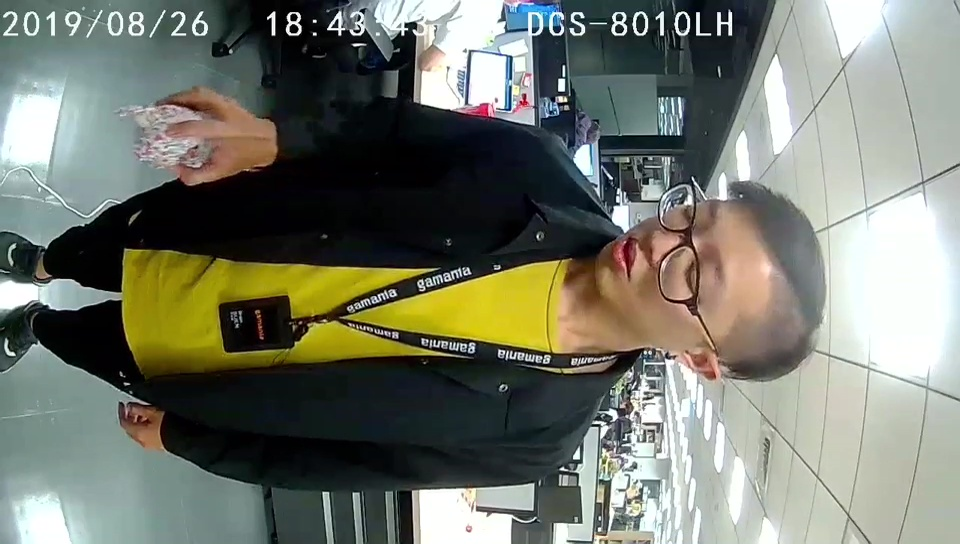pig: (136, 104, 206, 170)
